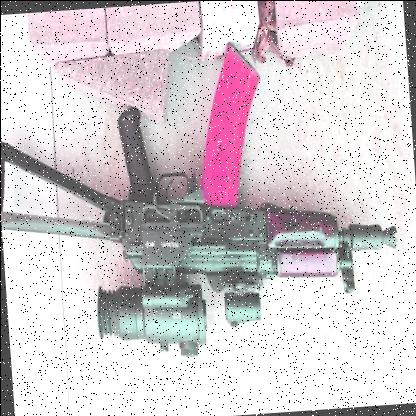rifle: (0, 42, 405, 386)
